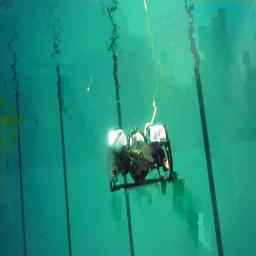front: (107, 123, 173, 192)
